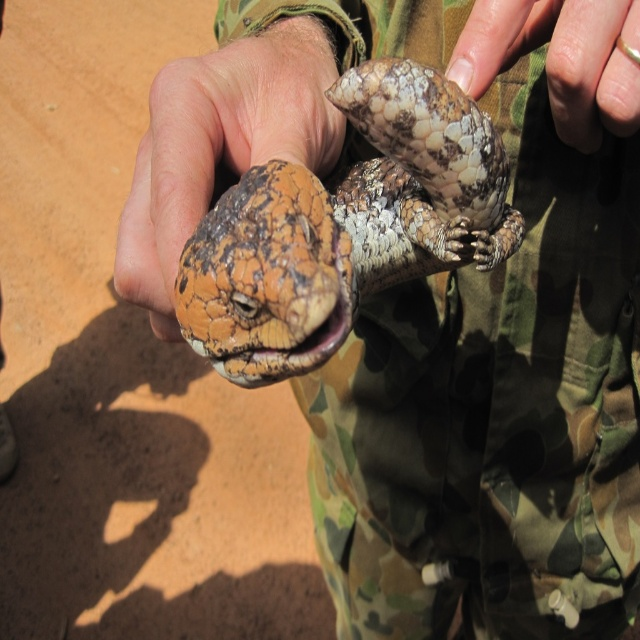Snake: (174, 59, 525, 388)
